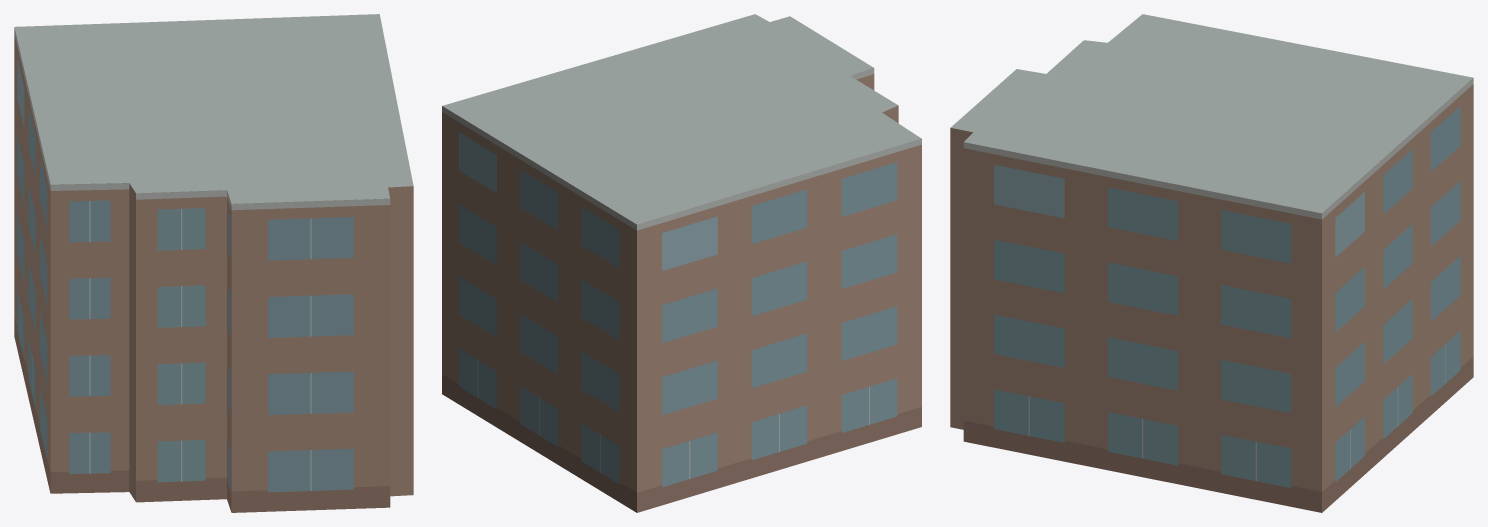
File: survey-upis-32983777.glb
3 renders of one model, left to right at view 1: azimuth 30°, elevation 25°; view 2: azimuth 150°, elevation 25°; view 3: azimuth 270°, elevation 25°, orthographic. The views are drawn at different scales.
Visible parts, largest first — view 1: survey-upis-32983777.tmp; view 2: survey-upis-32983777.tmp; view 3: survey-upis-32983777.tmp.
Boxes of the visible parts, box(x1,y1,x2,y2) form: survey-upis-32983777.tmp: box(14, 14, 413, 512); survey-upis-32983777.tmp: box(442, 14, 921, 512); survey-upis-32983777.tmp: box(950, 14, 1473, 512).
Bounding box in the file's own units: 16.86 × 11.8 × 18.7.
